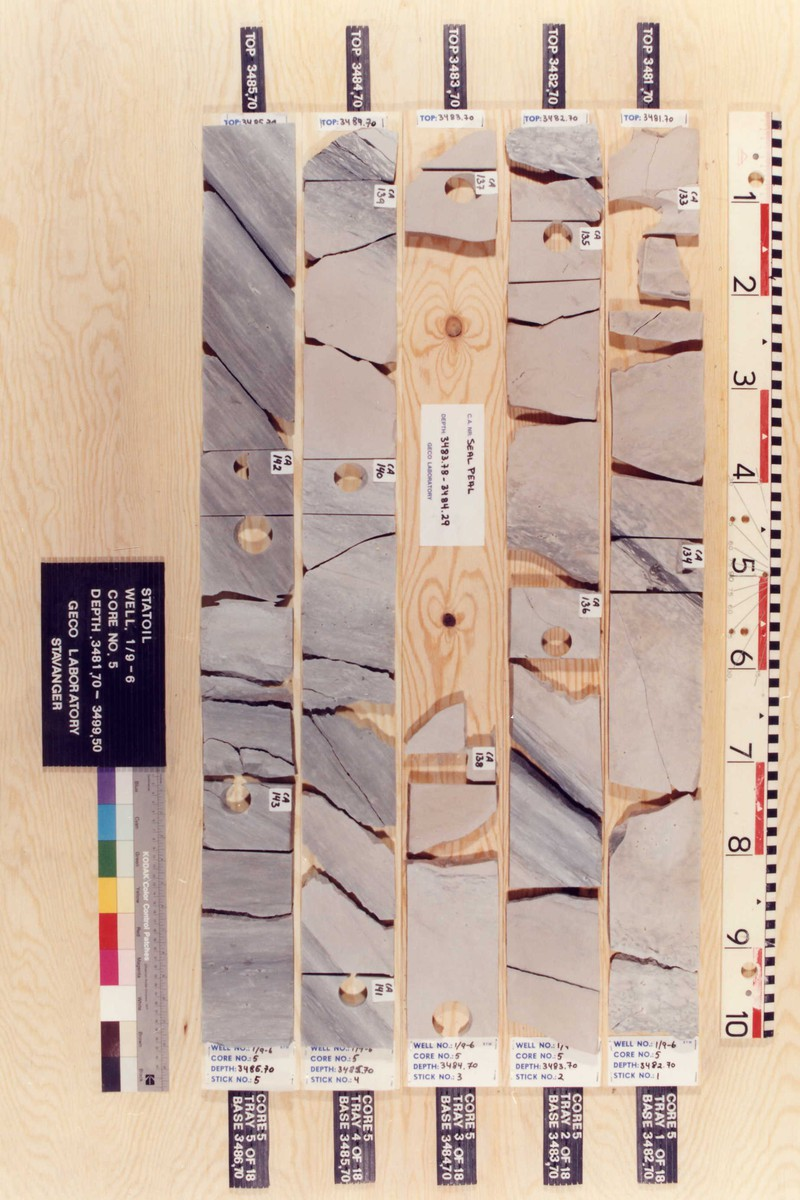core: (508, 127, 607, 1052), (202, 125, 297, 1050), (303, 130, 398, 1048), (610, 127, 703, 1045), (404, 699, 502, 1040), (405, 130, 500, 248)
